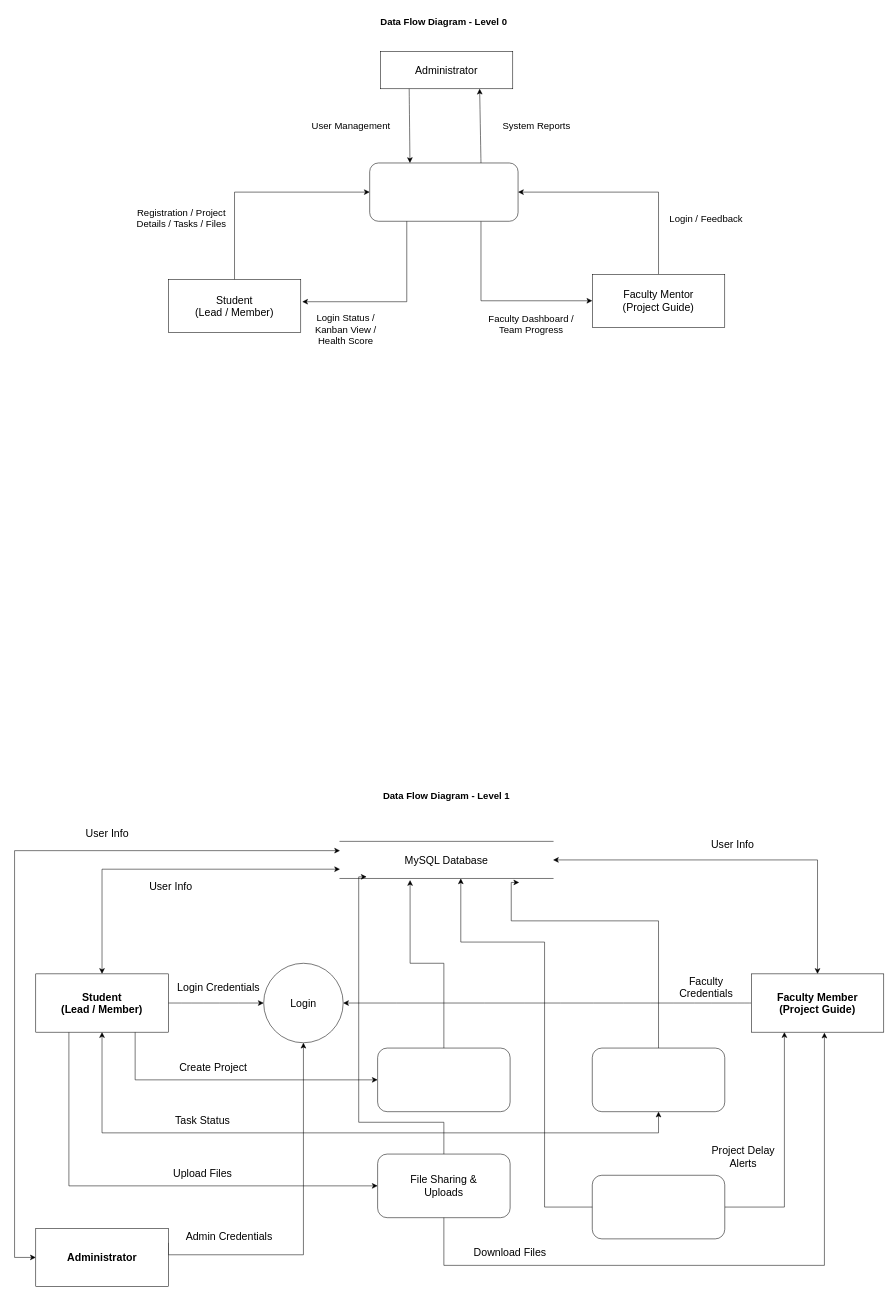
Some shapes in this 893 by 1296 pixel diagram are drawn without their labels. Each missing label, with the box of its shape:
Health Score & Monitoring: (592, 1175, 725, 1239)
Kanban Board: (592, 1048, 725, 1112)
Project & Team Management: (377, 1048, 510, 1112)
TeamFlow System: (369, 162, 518, 221)
